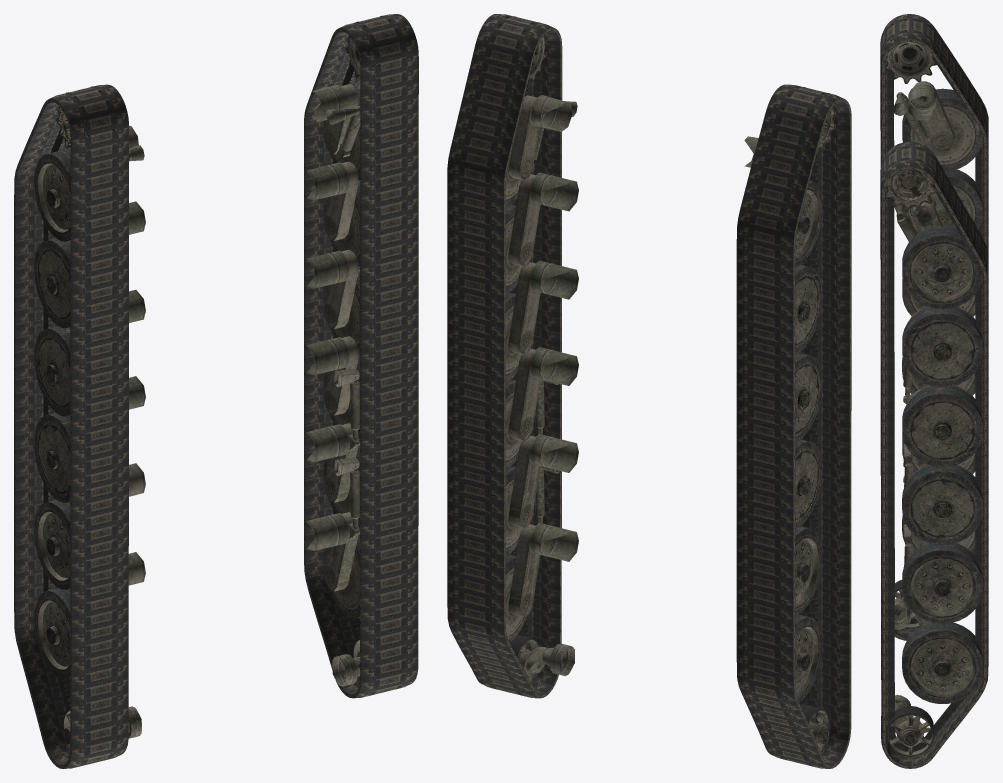
Rendered from Chassis.glb.
3 renders of one model, left to right at view 1: azimuth 30°, elevation 25°; view 2: azimuth 150°, elevation 25°; view 3: azimuth 270°, elevation 25°, orthographic. The views are drawn at different scales.
Parts seen in each view (by area): view 1: set_1_group_0, set_0_group_0, set_3_group_0, set_2_group_0; view 2: set_1_group_0, set_0_group_0, set_3_group_0, set_2_group_0; view 3: set_3_group_0, set_0_group_0, set_2_group_0, set_1_group_0.
Part boxes in pixels (bbox=[...]): set_1_group_0: bbox=[14, 84, 128, 768]; set_0_group_0: bbox=[304, 14, 418, 698]; set_3_group_0: bbox=[306, 15, 404, 686]; set_2_group_0: bbox=[34, 86, 145, 750]; set_1_group_0: bbox=[736, 84, 851, 768]; set_0_group_0: bbox=[447, 14, 562, 698]; set_3_group_0: bbox=[493, 16, 578, 682]; set_2_group_0: bbox=[744, 87, 834, 752]; set_3_group_0: bbox=[880, 147, 983, 756]; set_0_group_0: bbox=[880, 141, 988, 768]; set_2_group_0: bbox=[880, 19, 983, 630]; set_1_group_0: bbox=[880, 14, 988, 640].
Bounding box in the file's own units: 3.06 × 5.65 × 0.9199.
Materials: 4 (4 with a texture image).
